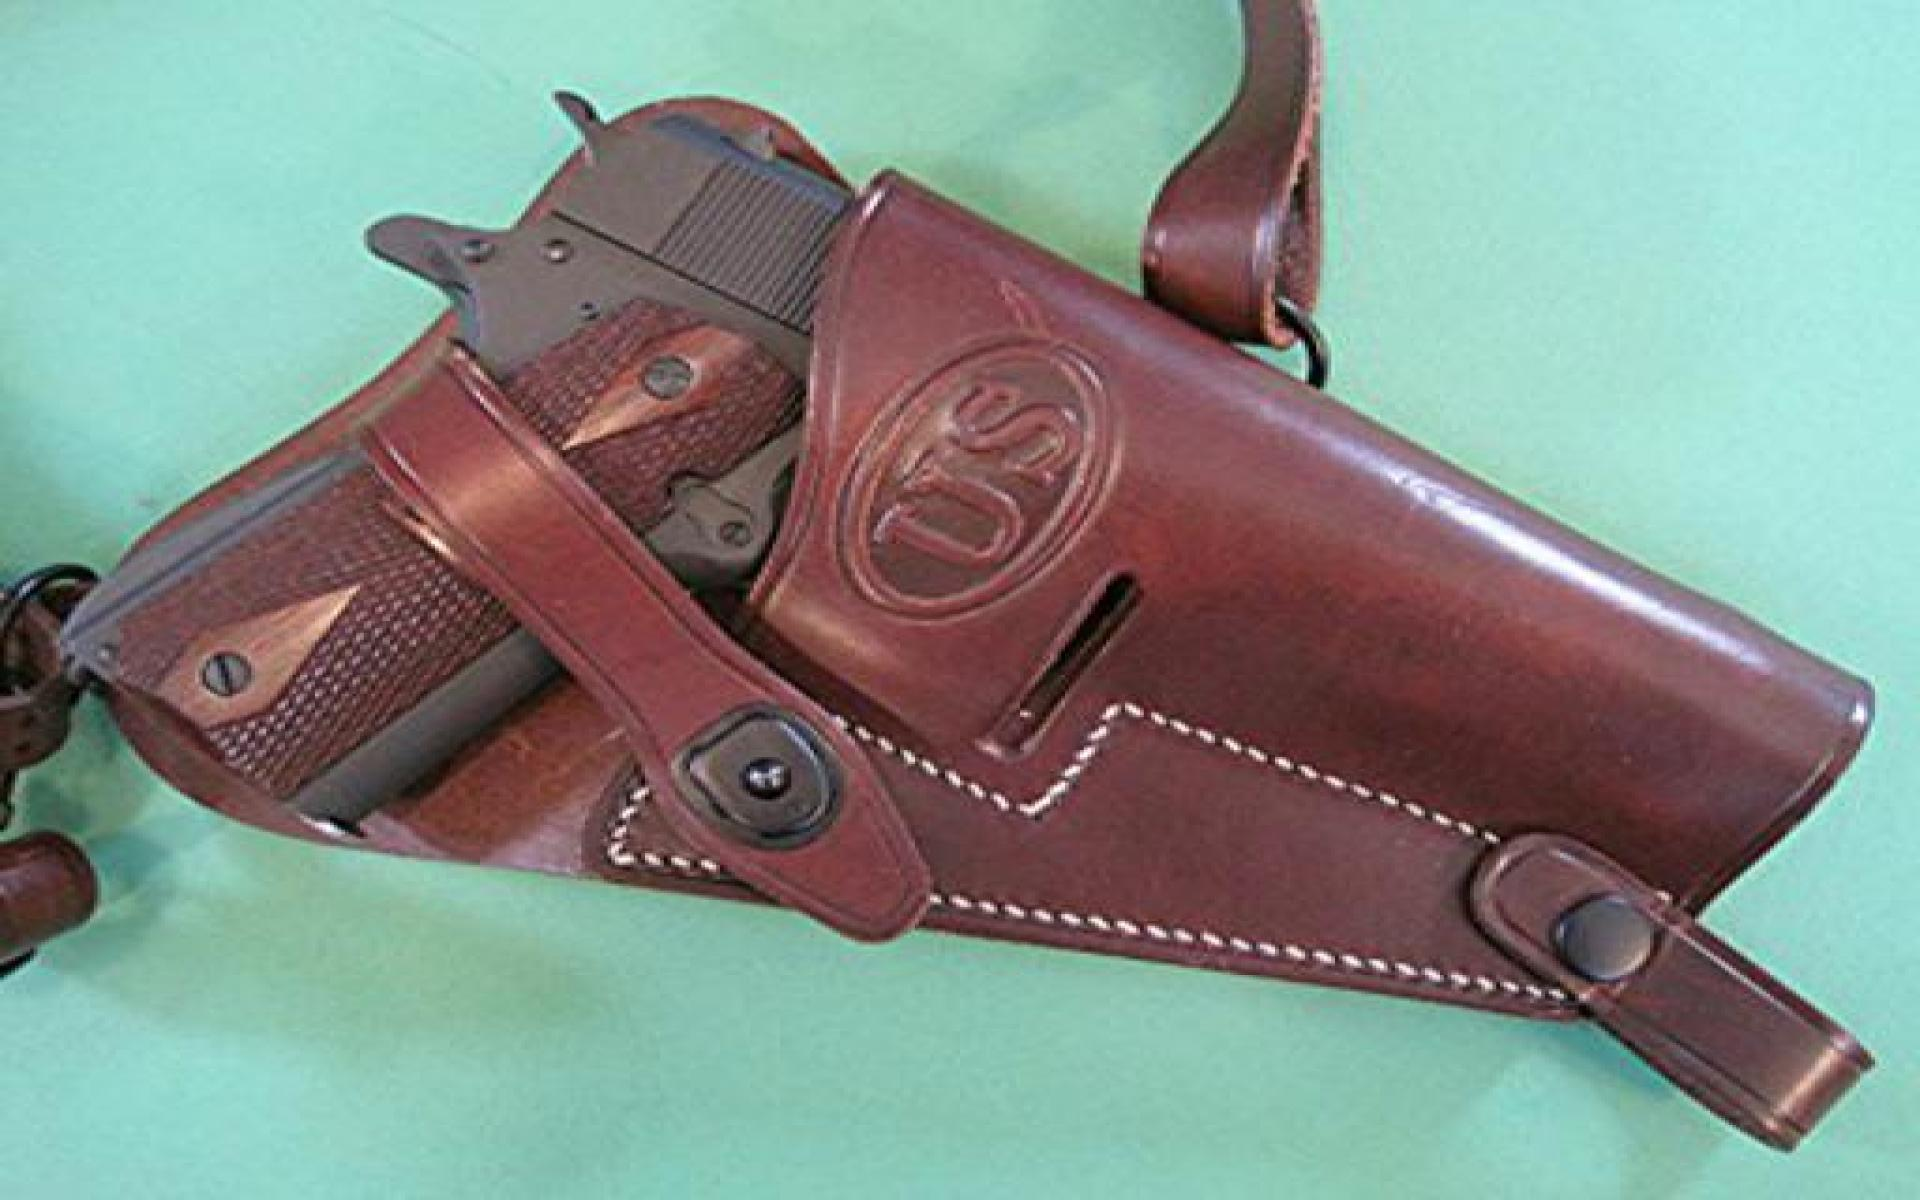gun: (22, 61, 1867, 1012)
